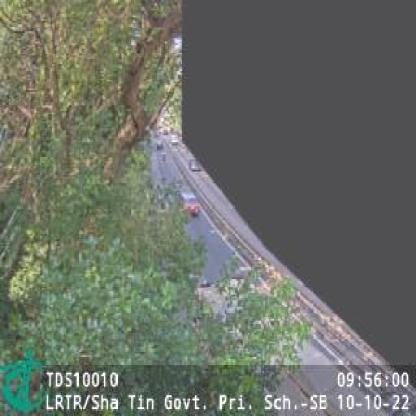Car: (183, 190, 201, 218)
